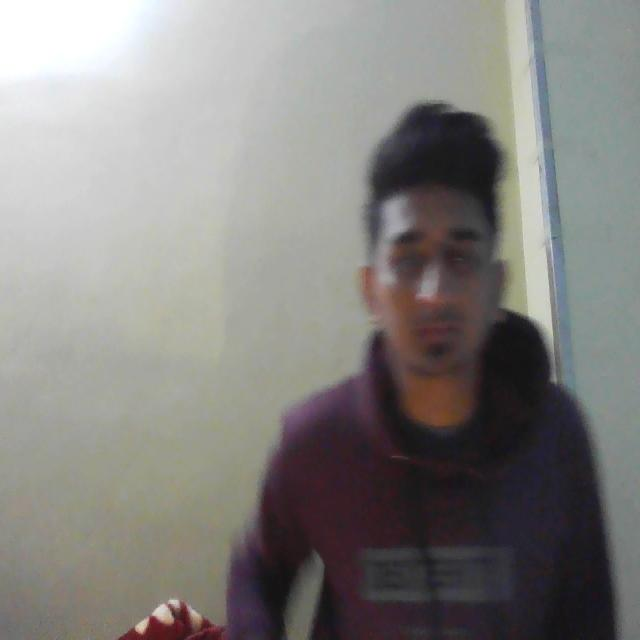real: (362, 113, 521, 415)
